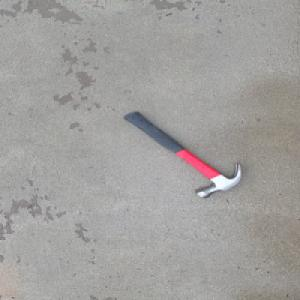Hammer: (119, 111, 243, 200)
